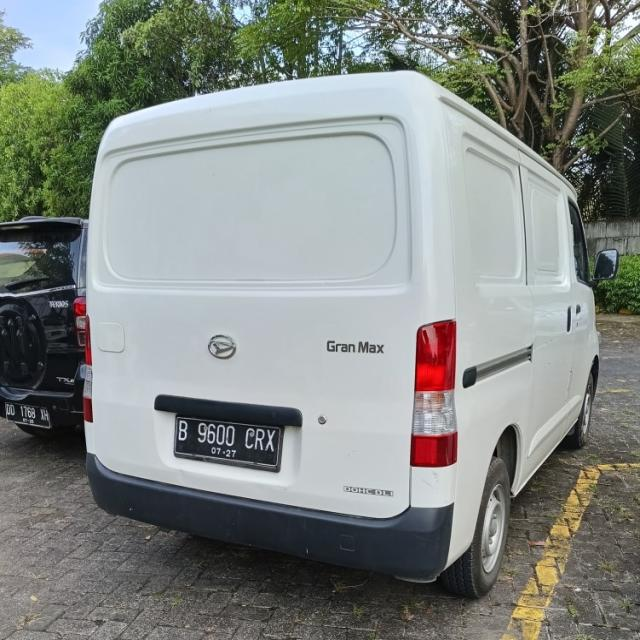plates: (174, 408, 288, 473)
